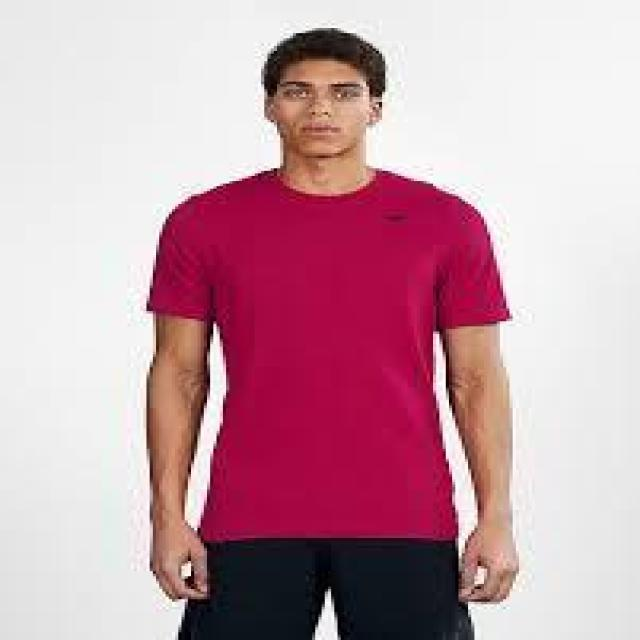Tshirt: (124, 168, 538, 546)
